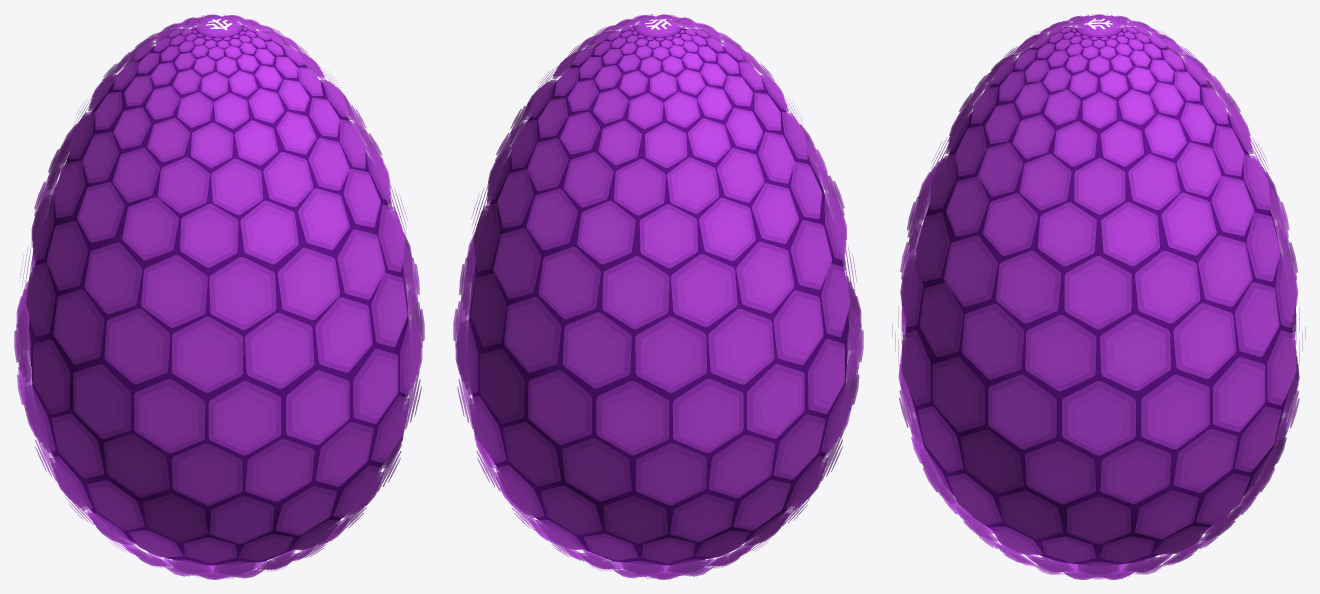
Rendered from treechatEgg_OG0.glb.
3 renders of one model, left to right at view 1: azimuth 30°, elevation 25°; view 2: azimuth 150°, elevation 25°; view 3: azimuth 270°, elevation 25°, orthographic.
Parts seen in each view (by area): view 1: hexs, egg, capTop; view 2: hexs, egg, capTop; view 3: hexs, egg, capTop.
Boxes of the visible parts, x1,y1,x2,y2 form: hexs: (14, 14, 424, 579); egg: (29, 28, 409, 565); capTop: (191, 16, 247, 40); hexs: (453, 14, 863, 579); egg: (468, 28, 848, 565); capTop: (630, 16, 686, 40); hexs: (892, 14, 1305, 579); egg: (905, 28, 1292, 565); capTop: (1071, 16, 1127, 40).
Size of what is drawn, in the model's own units: 1.89 by 2.78 by 1.92.
